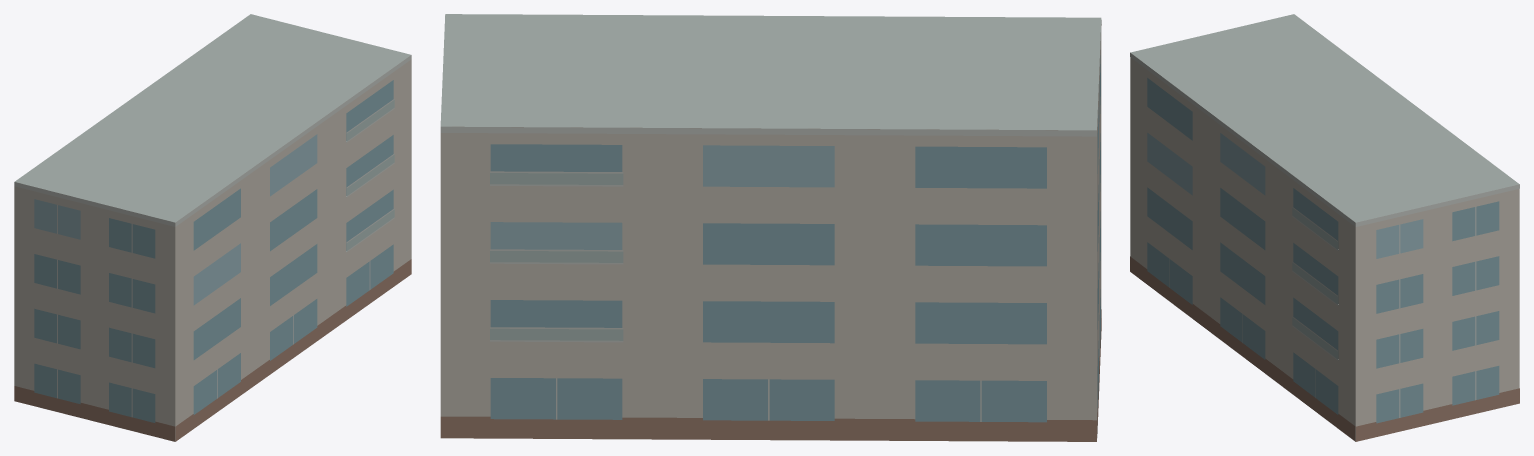
Rendered from survey-upis-32773212.glb.
3 renders of one model, left to right at view 1: azimuth 30°, elevation 25°; view 2: azimuth 150°, elevation 25°; view 3: azimuth 270°, elevation 25°, orthographic. The views are drawn at different scales.
Parts seen in each view (by area): view 1: survey-upis-32773212.tmp; view 2: survey-upis-32773212.tmp; view 3: survey-upis-32773212.tmp.
Part boxes in pixels (left/top/right/bottom): survey-upis-32773212.tmp: left=14, top=14, right=411, bottom=441; survey-upis-32773212.tmp: left=440, top=14, right=1101, bottom=441; survey-upis-32773212.tmp: left=1130, top=14, right=1519, bottom=441.
Size of the model in its own units: 24.93 by 12.2 by 19.66.
